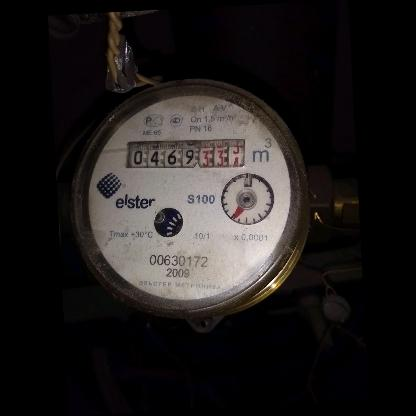digital_screen: (122, 138, 198, 172)
